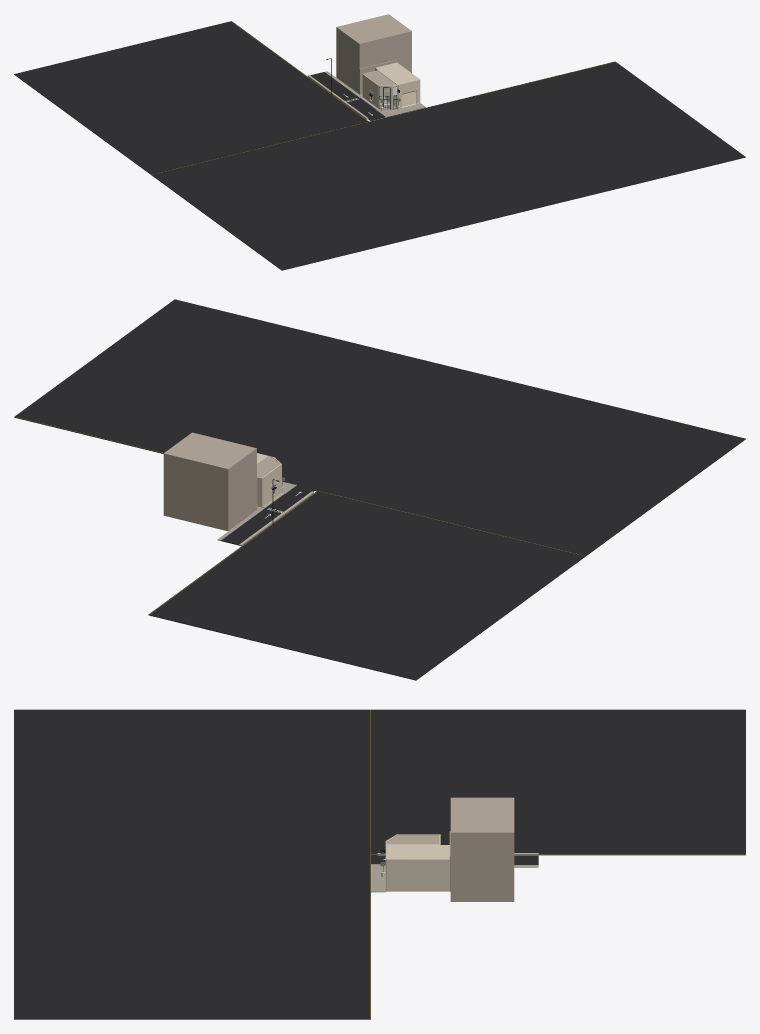
The model's file is Owns_Cafe.obj.
3 renders of one model, top to bottom at view 1: azimuth 30°, elevation 25°; view 2: azimuth 150°, elevation 25°; view 3: azimuth 270°, elevation 25°, orthographic. The views are drawn at different scales.
Parts seen in each view (by area): view 1: Road, Back_Building, DriveThru_Lane, Neighbour_Unit; view 2: Road, Back_Building, DriveThru_Lane; view 3: Road, Back_Building, Neighbour_Unit.
Boxes of the visible parts, bbox=[...] form: Road: bbox=[14, 21, 745, 270]; Back_Building: bbox=[336, 14, 411, 94]; DriveThru_Lane: bbox=[310, 72, 385, 120]; Neighbour_Unit: bbox=[375, 62, 419, 103]; Road: bbox=[14, 299, 745, 680]; Back_Building: bbox=[163, 432, 256, 531]; DriveThru_Lane: bbox=[221, 485, 315, 545]; Road: bbox=[14, 709, 745, 1019]; Back_Building: bbox=[450, 797, 514, 901]; Neighbour_Unit: bbox=[386, 845, 449, 891].
Bounding box in the file's own units: 12000 × 1280 × 12000.
